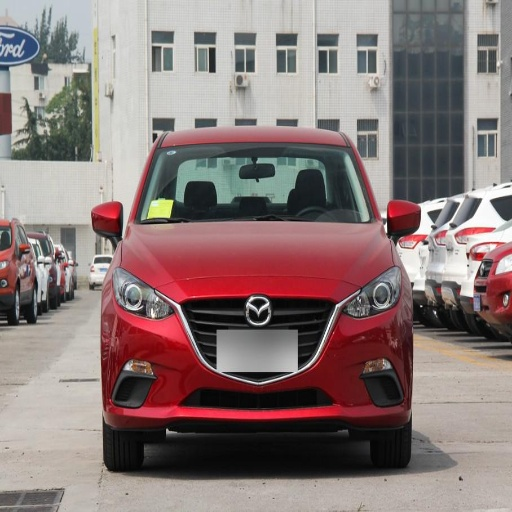back_right_light: (101, 280, 411, 431)
front_bumper: (139, 145, 374, 223)
front_left_door: (340, 268, 403, 318)
front_right_door: (114, 268, 174, 319)
front_right_light: (121, 223, 392, 294)
hood: (387, 200, 421, 241)
left_mirror: (92, 201, 123, 238)
trunk: (103, 427, 144, 471), (369, 427, 410, 469)
